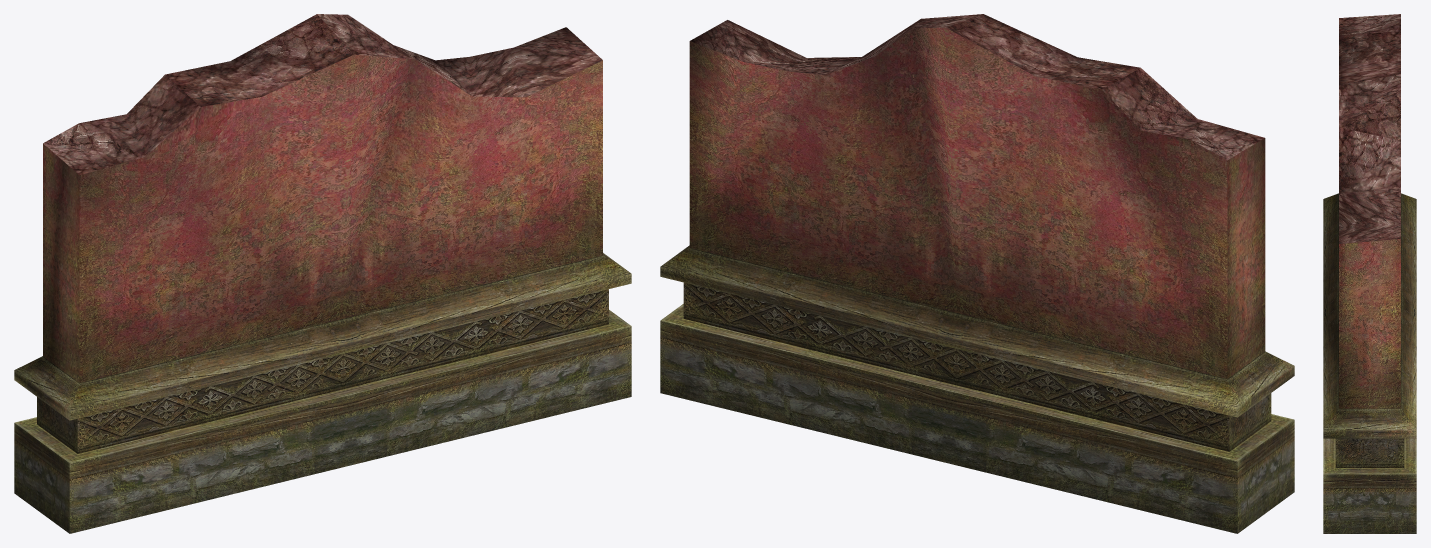
Rendered from fortressa_wall_a_01.fbx.
3 views of the same model, side by side, from view 1: azimuth 30°, elevation 25°; view 2: azimuth 150°, elevation 25°; view 3: azimuth 270°, elevation 25° (orthographic). The views are drawn at different scales.
Parts seen in each view (by area): view 1: fortressA_wall_A_01; view 2: fortressA_wall_A_01; view 3: fortressA_wall_A_01.
Part boxes in pixels (<box>): fortressA_wall_A_01: <box>14,14,631,533</box>; fortressA_wall_A_01: <box>660,14,1294,533</box>; fortressA_wall_A_01: <box>1323,14,1416,533</box>.
Size of the model in its own units: 13.79 by 9.72 by 2.36.
